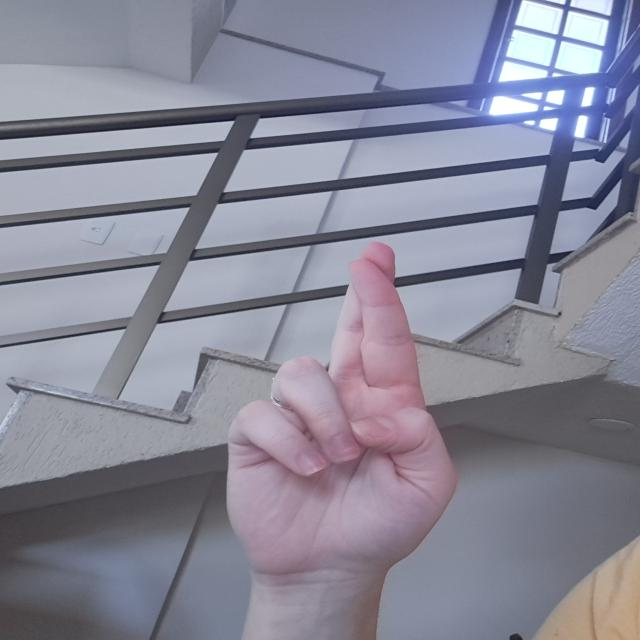R: (214, 240, 466, 578)
